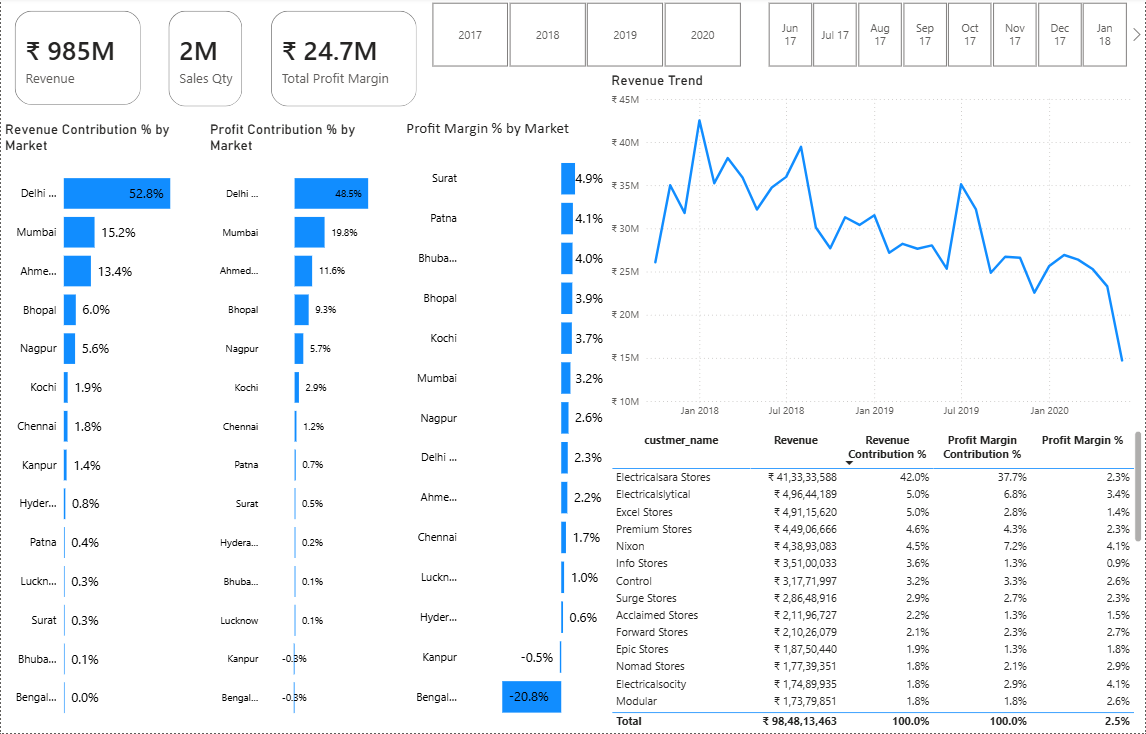

What the dashboard file says about the page in this screenshot:
{"tool":"powerbi","page":{"name":"Profit Analysis","canvas":[1400,900],"ordinal":1},"visuals":[{"type":"cardVisual","fields":{"Data":["Base Measure (2).Revenue"]},"box":[0,0,188.6,149.7],"z":0},{"type":"cardVisual","fields":{"Data":["Base Measure (2).Sales Qty"]},"box":[188.6,0,124.7,151.2],"z":1000},{"type":"barChart","title":"Profit Contribution % by Market","fields":{"Y":["Base Measure (2).Profit Margin Contribution %"],"Category":["sales markets.markets_name"]},"box":[250.7,151.3,240,749],"z":2000},{"type":"slicer","fields":{"Values":["sales date.year"]},"box":[502,0,427.2,92],"z":3000},{"type":"slicer","fields":{"Values":["sales date.cy_date"]},"box":[912.5,0,487.6,91.7],"z":4000},{"type":"tableEx","title":"Top 5 Customers","fields":{"Values":["sales customers.custmer_name","Base Measure (2).Revenue","Base Measure (2).Revenue Contribution %","Base Measure (2).Profit Margin Contribution %","Base Measure (2).Profit Margin %"]},"box":[741.3,525.8,658.8,374.5],"z":5000},{"type":"lineChart","title":"Revenue Trend","fields":{"Y":["Base Measure (2).Revenue"],"Category":["sales date.cy_date"]},"box":[836.1,105.5,564,418.8],"z":6000},{"type":"cardVisual","fields":{"Data":["Base Measure (2).Total Profit Margin"]},"box":[313.4,0,212,151.2],"z":7000},{"type":"barChart","title":"Profit Margin % by Market","fields":{"Y":["Base Measure (2).Profit Margin %"],"Category":["sales markets.markets_name"]},"box":[490.7,148.3,250.7,752],"z":8000},{"type":"barChart","title":"Revenue Contribution % by Market","fields":{"Y":["Base Measure (2).Revenue Contribution %"],"Category":["sales markets.markets_name"]},"box":[0,151.3,255.3,749],"z":9000}]}

Visuals, with their boxes in screenshot pixels (x1, y1, x2, y2), scaled from the page's 1400x900 canvas onto the 1146x734 screenshot:
cardVisual - Base Measure (2).Revenue: x1=0, y1=0, x2=154, y2=122
cardVisual - Base Measure (2).Sales Qty: x1=154, y1=0, x2=256, y2=123
"Profit Contribution % by Market" barChart: x1=205, y1=123, x2=402, y2=733
slicer - sales date.year: x1=411, y1=0, x2=761, y2=75
slicer - sales date.cy_date: x1=747, y1=0, x2=1145, y2=75
"Top 5 Customers" tableEx: x1=607, y1=429, x2=1145, y2=733
"Revenue Trend" lineChart: x1=684, y1=86, x2=1145, y2=428
cardVisual - Base Measure (2).Total Profit Margin: x1=257, y1=0, x2=430, y2=123
"Profit Margin % by Market" barChart: x1=402, y1=121, x2=607, y2=733
"Revenue Contribution % by Market" barChart: x1=0, y1=123, x2=209, y2=733
